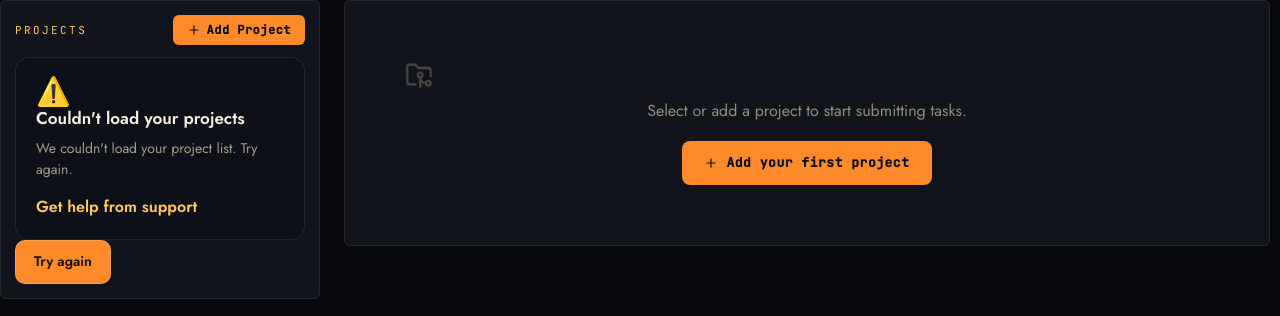
Test: shows an error card with Retry when the project list fetch fails, not 'No projects yet'
Expected: the element with test id "proj-load-error" is shown, [15,57,305,284]
Click the button with test id "proj-load-error-retry" at (63, 262), box [15,240,111,284]
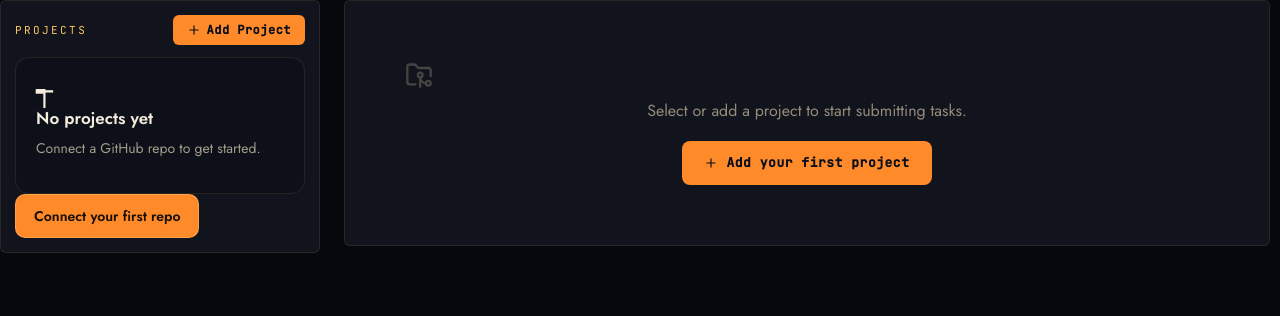
Expected: the element with test id "proj-load-error" is gone
